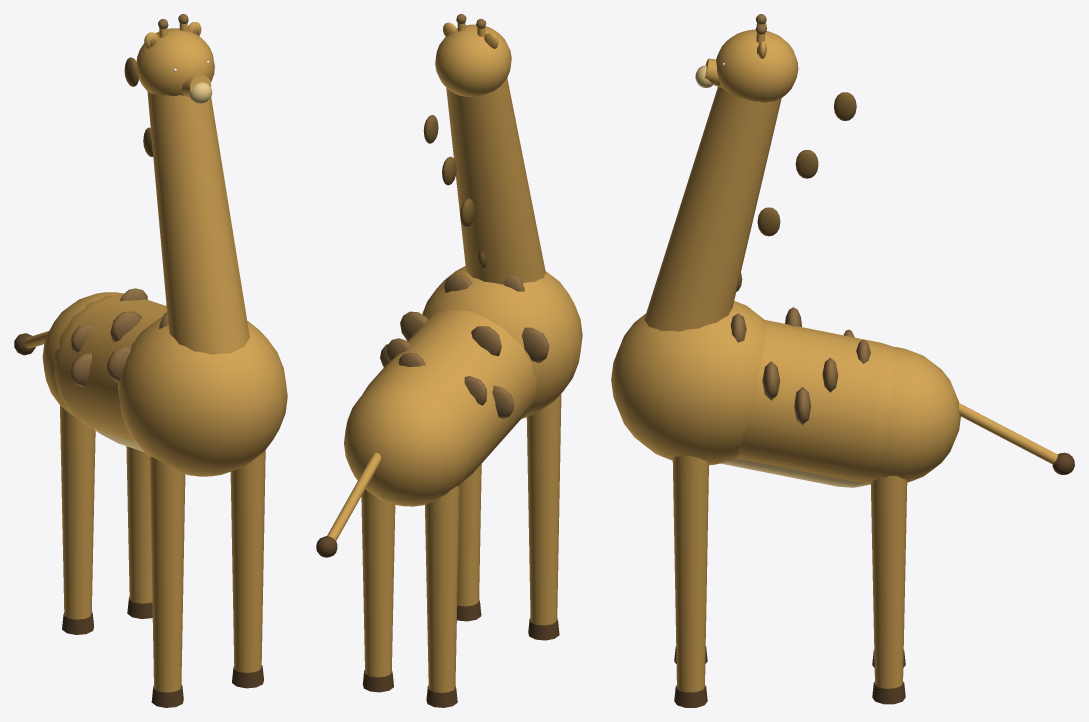
The model's file is h07-jerapah.glb.
3 renders of one model, left to right at view 1: azimuth 30°, elevation 25°; view 2: azimuth 150°, elevation 25°; view 3: azimuth 270°, elevation 25°, orthographic. The views are drawn at different scales.
Visible parts, largest first — view 1: Jerapah, neck, head; view 2: Jerapah, neck, head; view 3: Jerapah, neck, head.
Boxes of the visible parts, bbox=[...] form: Jerapah: bbox=[14, 57, 287, 707]; neck: bbox=[147, 91, 249, 354]; head: bbox=[136, 14, 214, 103]; Jerapah: bbox=[316, 115, 582, 707]; neck: bbox=[446, 78, 545, 284]; head: bbox=[435, 14, 511, 97]; Jerapah: bbox=[611, 92, 1074, 707]; neck: bbox=[644, 87, 781, 331]; head: bbox=[695, 14, 798, 102].
Bounding box in the file's own units: 0.5401 × 2.3 × 1.46.
